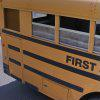Bus: (2, 6, 95, 99)
